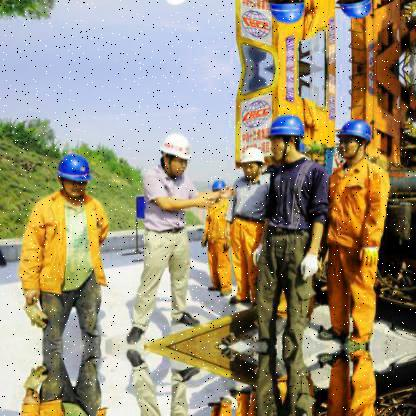Helmet: (264, 110, 310, 169), (154, 136, 200, 183), (56, 150, 94, 202), (334, 115, 373, 164), (236, 134, 264, 182), (212, 174, 228, 202)
